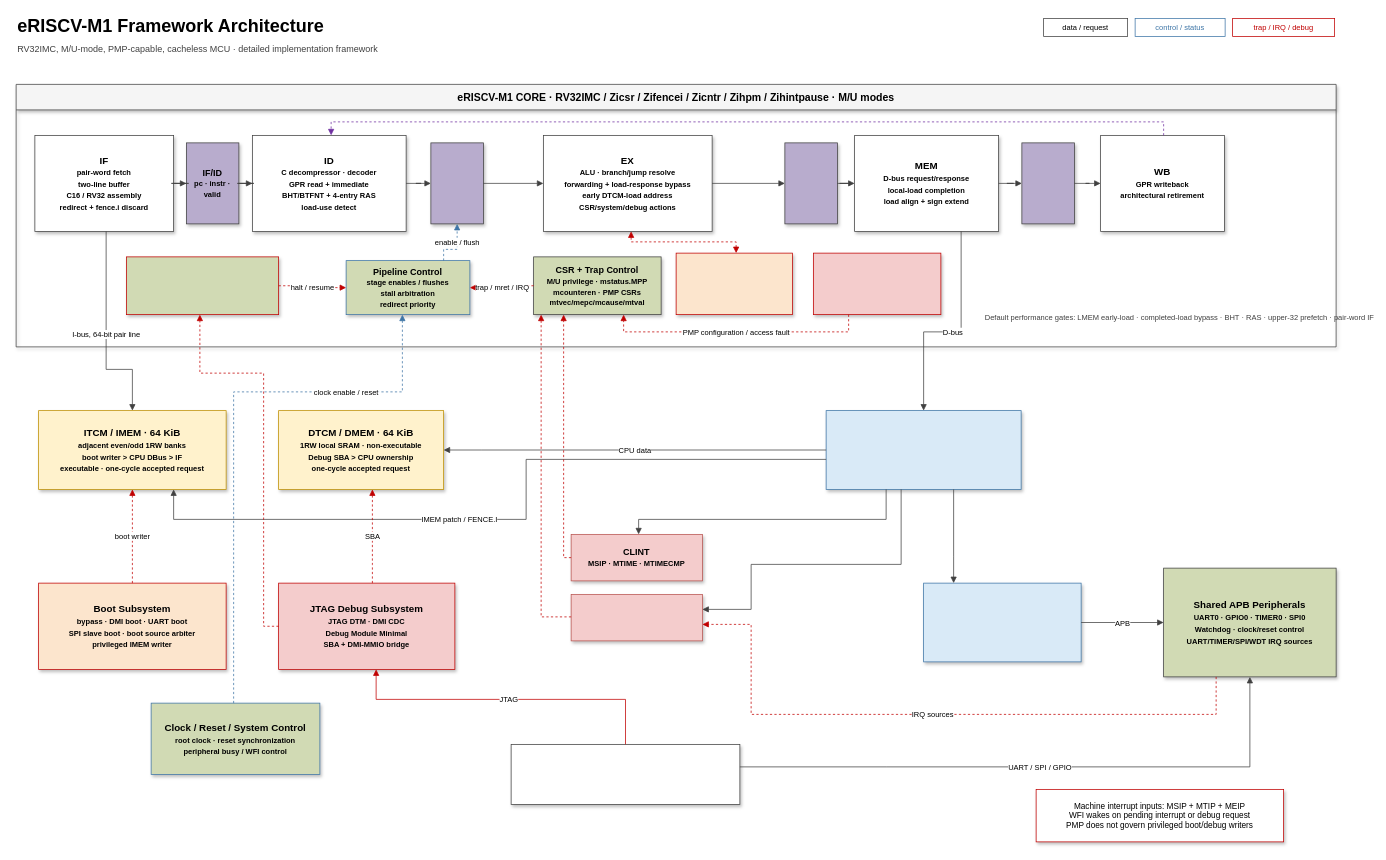
Some shapes in this 1386 by 860 pixel diagram are drawn without their labels. Each missing label, with the centre of its shape:
"APB Bridge + Interconnect 32-bit DBus-to-APB · PREADY/PSLVERR" belongs at pixel 1003 623.
"D-bus Interconnect IMEM · DMEM · CLINT · PLIC · APB unmapped → error response" belongs at pixel 924 451.
"Debug Run State halt after drain · resume at dpc abstract GPR / debug CSR access" belongs at pixel 203 286.
"EX/MEM address · store data valid" belongs at pixel 811 184.
"External Interfaces JTAG · UART · SPI · GPIO clock/reset · boot-mode pins" belongs at pixel 625 775.
"ID/EX operands · control valid" belongs at pixel 457 184.
"MEM/WB wb data · rd · valid" belongs at pixel 1048 184.
"PLIC v1.0 32 sources · one context MEIP" belongs at pixel 637 618.
"PMP Checker 16 entries · CPU fetch/load/store checks precise access-fault packet" belongs at pixel 877 284.
"RV32M Unit iterative MUL/MULH DIV/REM shortcuts EX holds while busy" belongs at pixel 734 284.
